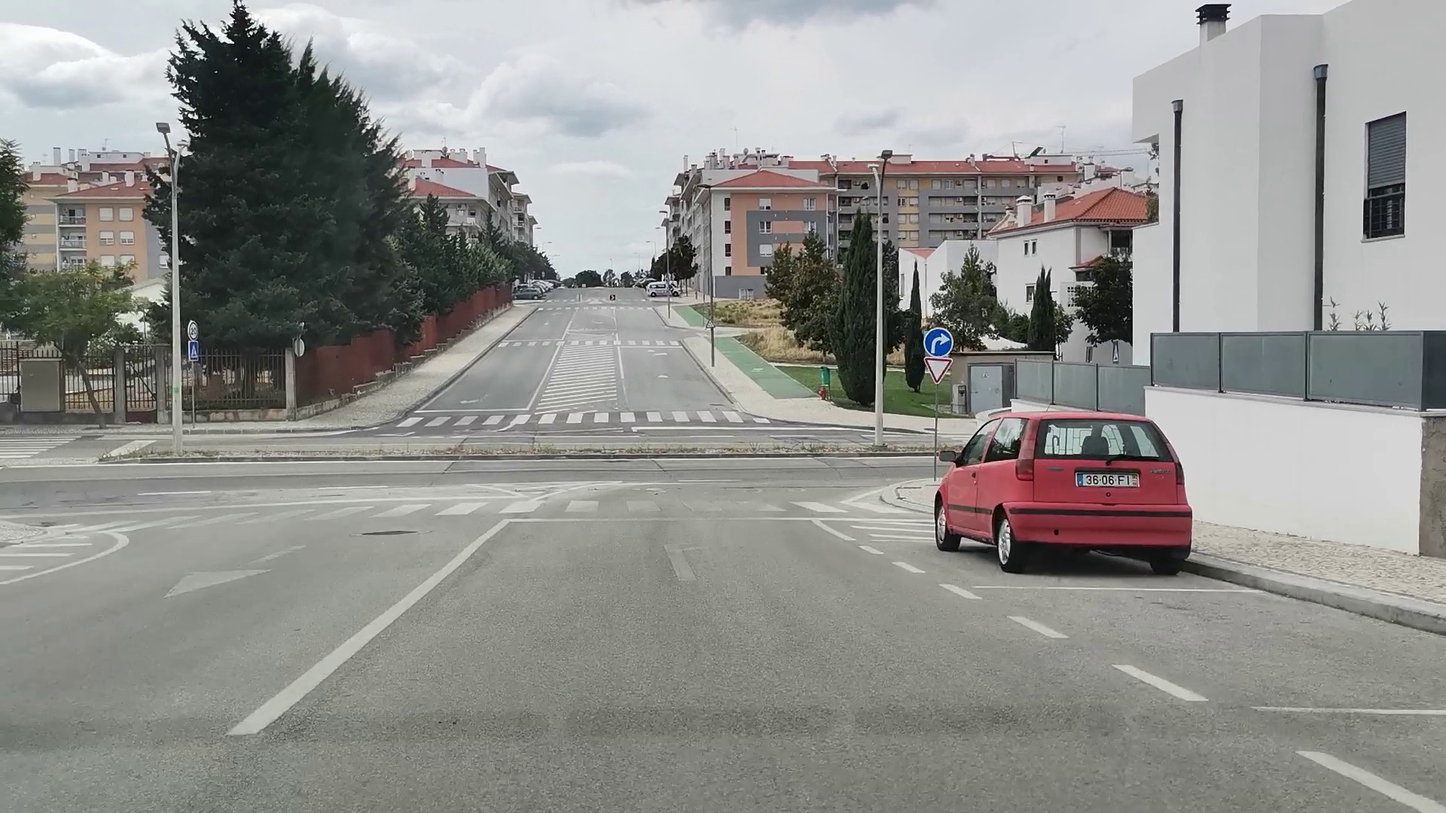Stairs: (48, 497, 913, 528)
